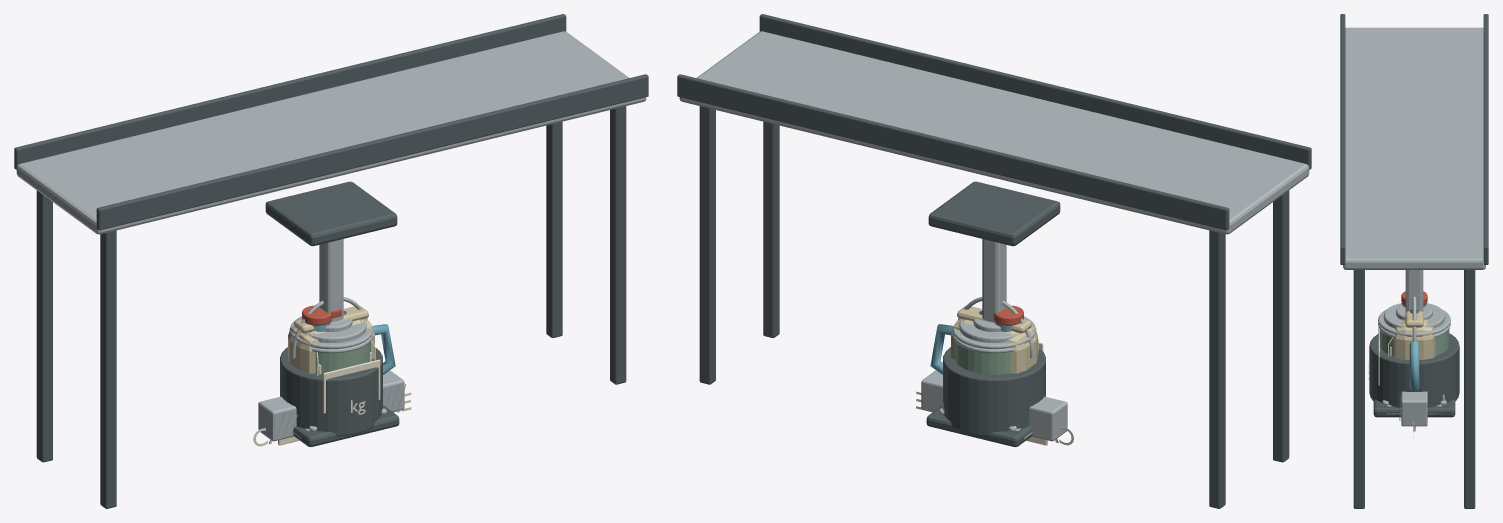
The model's file is workshop-lesson-props.glb.
3 renders of one model, left to right at view 1: azimuth 30°, elevation 25°; view 2: azimuth 150°, elevation 25°; view 3: azimuth 270°, elevation 25°, orthographic. The views are drawn at different scales.
Visible parts, largest first — view 1: Steel work tray, Raised tray edge, Raised tray edge.001, Cast iron test mass, Control mounting plate, Tray leg.002, Tray leg, Tray leg.001, Tray leg.003, Rectangular material sample, Instrument pedestal, Soft canvas sack (+2 smaller); view 2: Steel work tray, Raised tray edge.001, Raised tray edge, Cast iron test mass, Control mounting plate, Tray leg.003, Tray leg.001, Tray leg, Tray leg.002, Rectangular material sample, Instrument pedestal, Seamed enamel body (+2 smaller); view 3: Steel work tray, Cast iron test mass, Tray leg.002, Tray leg.003, Raised tray edge, Raised tray edge.001, Soft canvas sack, Rectangular material sample, Bolted base plate, Instrument pedestal, Sealed steel lid, Open carrying handle (+5 smaller).
Part boxes in pixels (x1=…): Steel work tray: x1=16, y1=31, x2=646, y2=234; Raised tray edge: x1=96, y1=74, x2=648, y2=230; Raised tray edge.001: x1=14, y1=14, x2=566, y2=169; Cast iron test mass: x1=280, y1=347, x2=382, y2=436; Control mounting plate: x1=265, y1=181, x2=397, y2=246; Tray leg.002: x1=610, y1=106, x2=626, y2=384; Tray leg: x1=100, y1=230, x2=116, y2=508; Tray leg.001: x1=36, y1=190, x2=52, y2=462; Tray leg.003: x1=546, y1=121, x2=562, y2=337; Rectangular material sample: x1=258, y1=370, x2=404, y2=441; Instrument pedestal: x1=319, y1=239, x2=343, y2=322; Soft canvas sack: x1=288, y1=318, x2=374, y2=373; Steel work tray: x1=679, y1=31, x2=1309, y2=234; Raised tray edge.001: x1=677, y1=74, x2=1229, y2=230; Raised tray edge: x1=759, y1=14, x2=1311, y2=169; Cast iron test mass: x1=943, y1=347, x2=1045, y2=436; Control mounting plate: x1=928, y1=181, x2=1060, y2=246; Tray leg.003: x1=699, y1=106, x2=715, y2=384; Tray leg.001: x1=1209, y1=230, x2=1225, y2=508; Tray leg: x1=1273, y1=190, x2=1289, y2=462; Tray leg.002: x1=763, y1=121, x2=779, y2=337; Rectangular material sample: x1=921, y1=370, x2=1067, y2=441; Instrument pedestal: x1=982, y1=239, x2=1006, y2=322; Seamed enamel body: x1=955, y1=341, x2=1010, y2=374; Steel work tray: x1=1343, y1=27, x2=1485, y2=269; Cast iron test mass: x1=1369, y1=333, x2=1459, y2=407; Tray leg.002: x1=1353, y1=270, x2=1364, y2=508; Tray leg.003: x1=1464, y1=270, x2=1475, y2=508; Raised tray edge: x1=1340, y1=14, x2=1345, y2=264; Raised tray edge.001: x1=1483, y1=14, x2=1488, y2=264; Soft canvas sack: x1=1393, y1=304, x2=1435, y2=359; Rectangular material sample: x1=1401, y1=391, x2=1427, y2=426; Bolted base plate: x1=1373, y1=399, x2=1455, y2=417; Instrument pedestal: x1=1405, y1=270, x2=1423, y2=311; Sealed steel lid: x1=1383, y1=303, x2=1445, y2=328; Open carrying handle: x1=1409, y1=341, x2=1419, y2=390.
Size of the model in its own units: 2.7 by 1.5 by 0.725.
